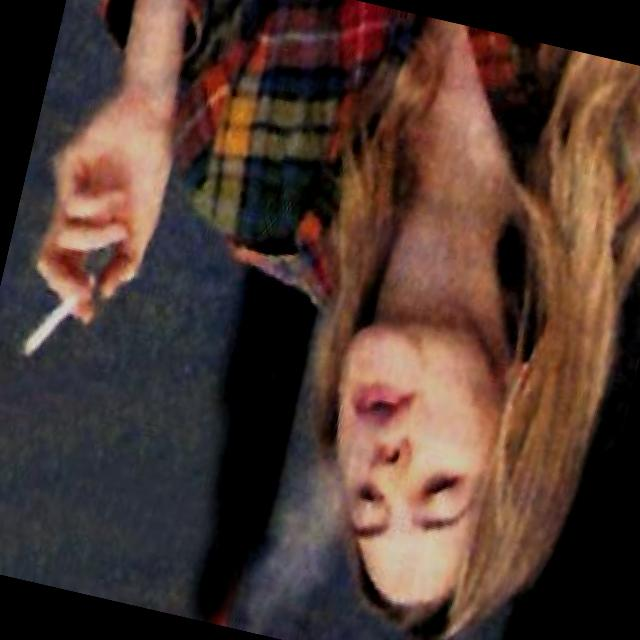smoke: (0, 216, 141, 409)
